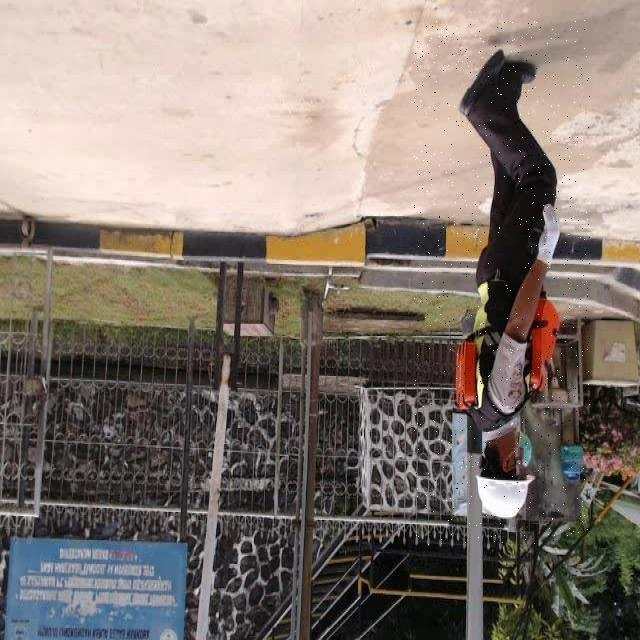gloves: (531, 200, 566, 267)
